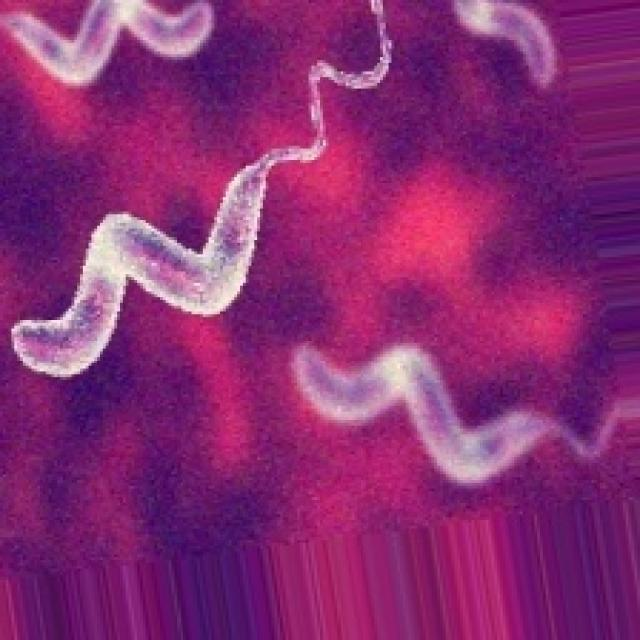Spiral_bacteria: (1, 0, 414, 416)
